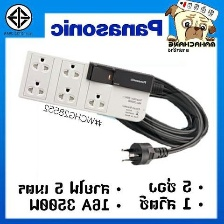three_eye_plug: (15, 45, 155, 124)
